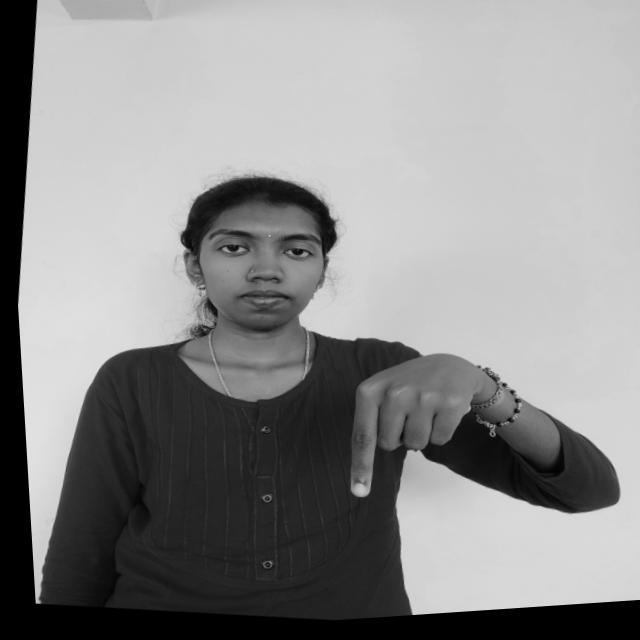Now: (323, 342, 497, 528)
